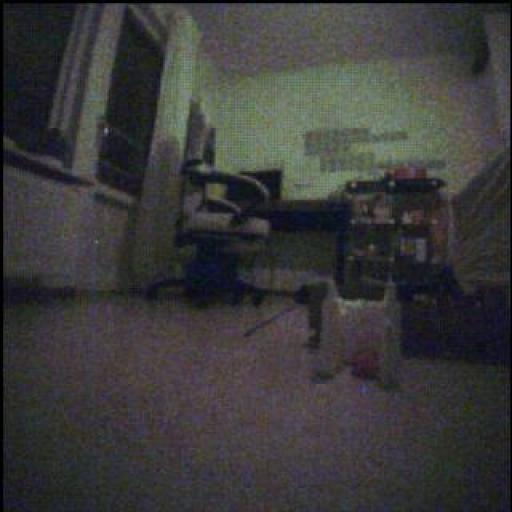basket: (353, 332, 384, 378)
